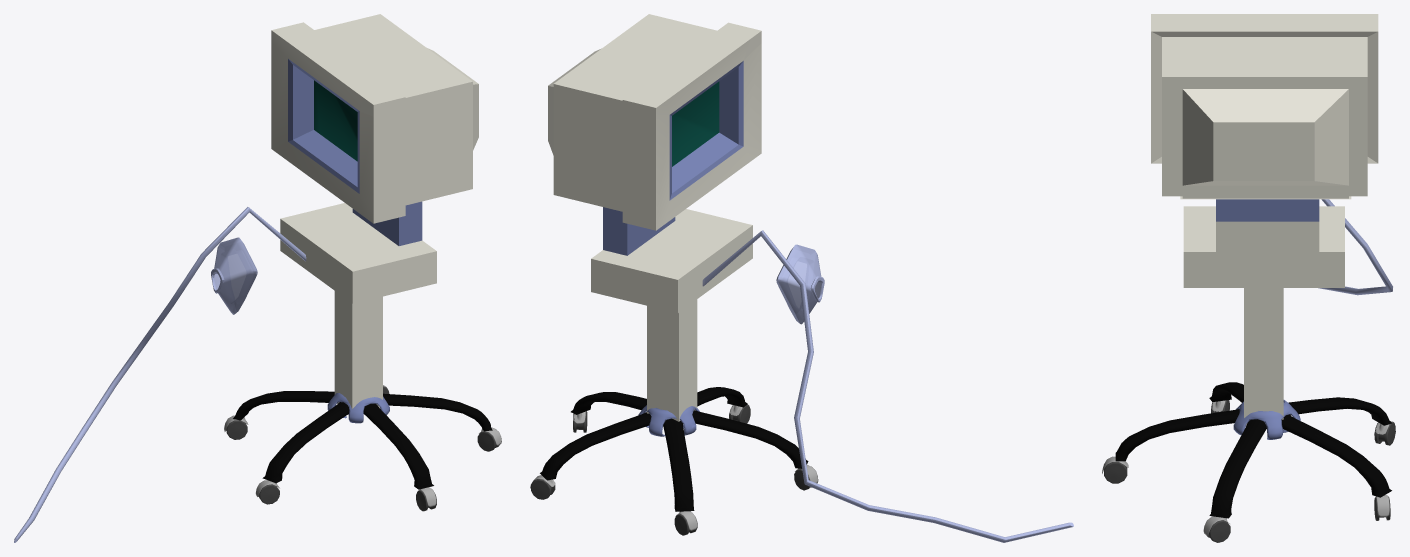
Rendered from ventiladorNeonatal.fbx.
3 views of the same model, side by side, from view 1: azimuth 30°, elevation 25°; view 2: azimuth 150°, elevation 25°; view 3: azimuth 270°, elevation 25° (orthographic). The views are drawn at different scales.
Visible parts, largest first — view 1: ventilador_neonatal; view 2: ventilador_neonatal; view 3: ventilador_neonatal.
Part boxes in pixels (box(x1,y1,x2,y2)): ventilador_neonatal: box(14, 14, 501, 542); ventilador_neonatal: box(530, 14, 1073, 542); ventilador_neonatal: box(1102, 14, 1395, 542).
Bounding box in the file's own units: 3.07 × 2.43 × 1.45.
